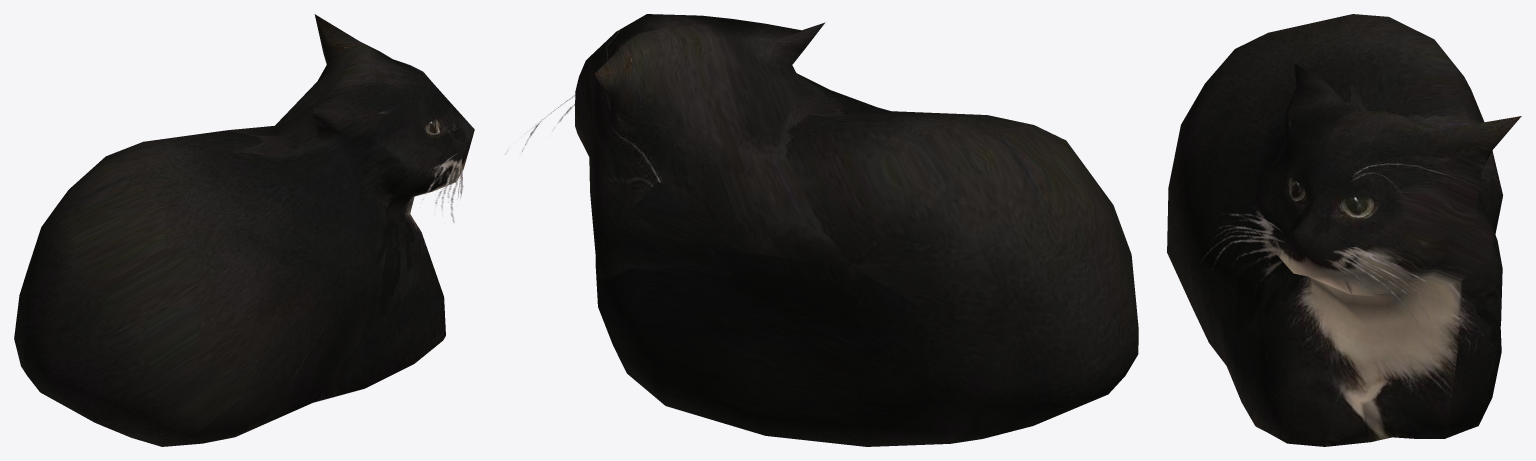
Rendered from maxwell.glb.
3 renders of one model, left to right at view 1: azimuth 30°, elevation 25°; view 2: azimuth 150°, elevation 25°; view 3: azimuth 270°, elevation 25°, orthographic. The views are drawn at different scales.
Parts seen in each view (by area): view 1: Maxwell; view 2: Maxwell; view 3: Maxwell.
Part boxes in pixels (box(x1,y1,x2,y2)): Maxwell: box(14, 14, 474, 446); Maxwell: box(505, 14, 1138, 446); Maxwell: box(1167, 14, 1521, 446).
Bounding box in the file's own units: 4.17 × 2.44 × 2.26.
2 materials, 2 textured.
